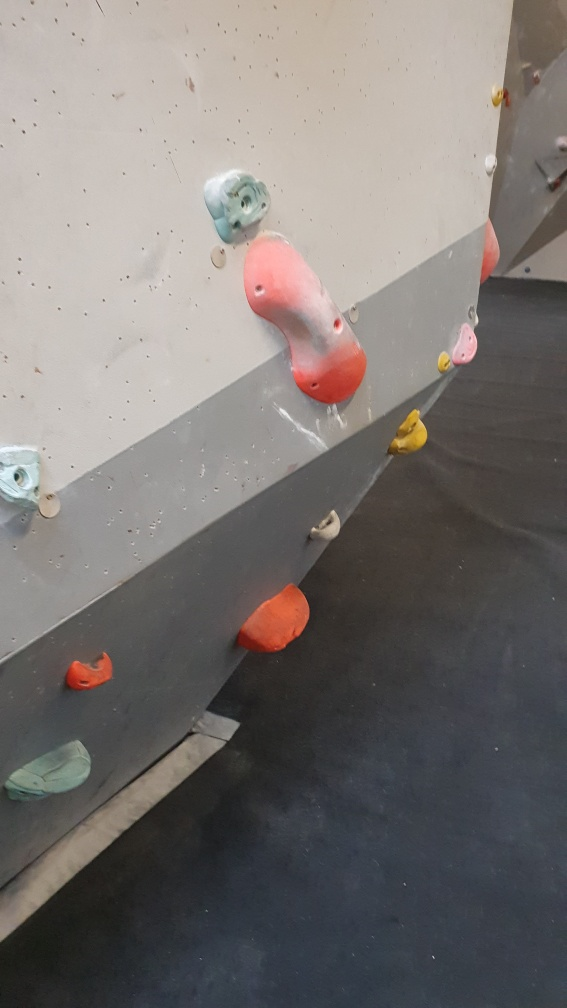Pinch: (238, 230, 363, 408)
